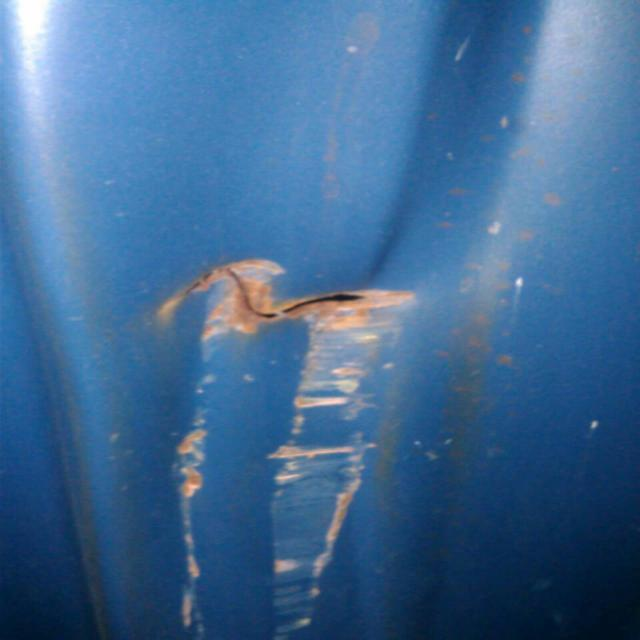dent: (150, 261, 409, 340)
